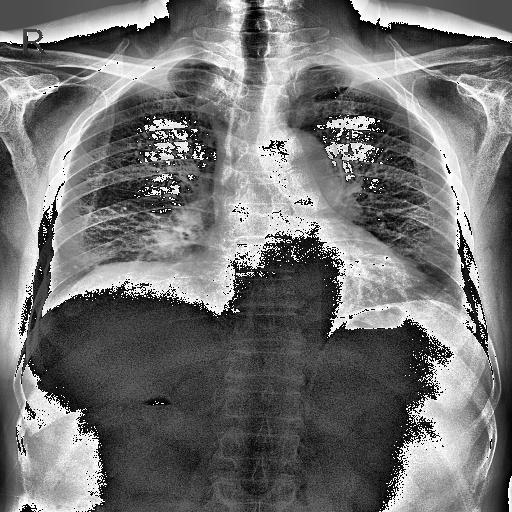0- Aortic enlargement: (265, 126, 340, 198), (264, 126, 333, 198)
10- Pleural effusion: (34, 274, 55, 332)
11- Pleural thickening: (448, 274, 492, 338), (34, 274, 55, 332)
12- Pneumothorax: (448, 274, 492, 338)
3- Cardiomegaly: (182, 235, 409, 309), (192, 236, 422, 303)
7- Lung Opacity: (134, 211, 208, 252)
8- Nodule-Mass: (252, 130, 344, 208)
